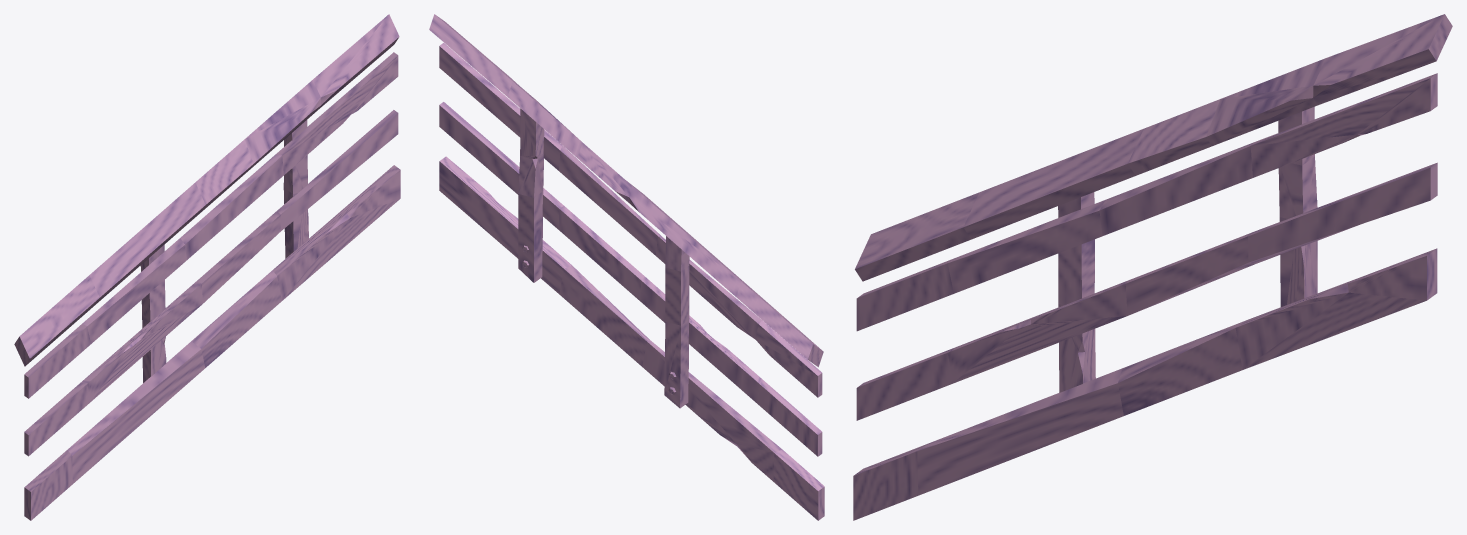
Rendered from Stair_Railing_01.fbx.
The picture shows the model from 3 angles, left to right: view 1: azimuth 30°, elevation 25°; view 2: azimuth 150°, elevation 25°; view 3: azimuth 330°, elevation 25°; orthographic projection. The views are drawn at different scales.
Visible parts, largest first — view 1: SM_Bld_Dock_Railing_Stairs_01; view 2: SM_Bld_Dock_Railing_Stairs_01; view 3: SM_Bld_Dock_Railing_Stairs_01.
Part boxes in pixels (x1=…): SM_Bld_Dock_Railing_Stairs_01: x1=14, y1=14, x2=400, y2=520; SM_Bld_Dock_Railing_Stairs_01: x1=429, y1=14, x2=824, y2=520; SM_Bld_Dock_Railing_Stairs_01: x1=853, y1=14, x2=1452, y2=520.
Size of the model in its own units: 250 by 264 by 19.41.
